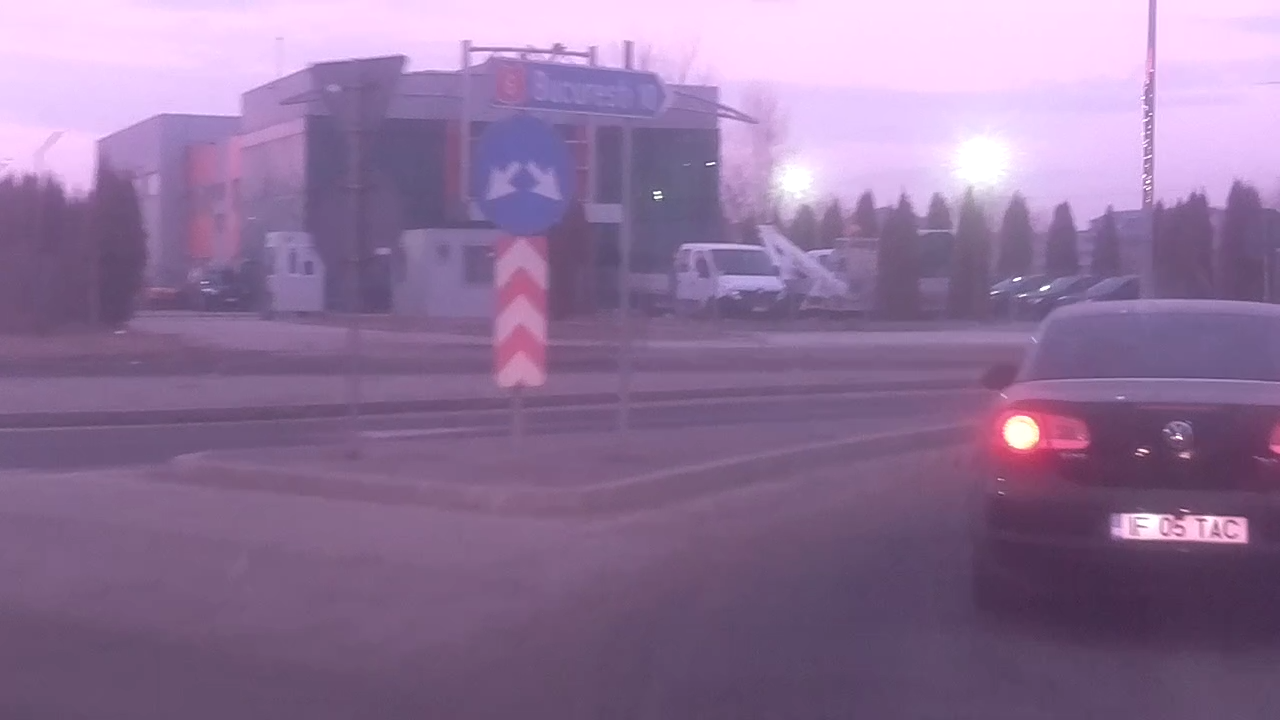license-plate: (1102, 508, 1252, 547)
